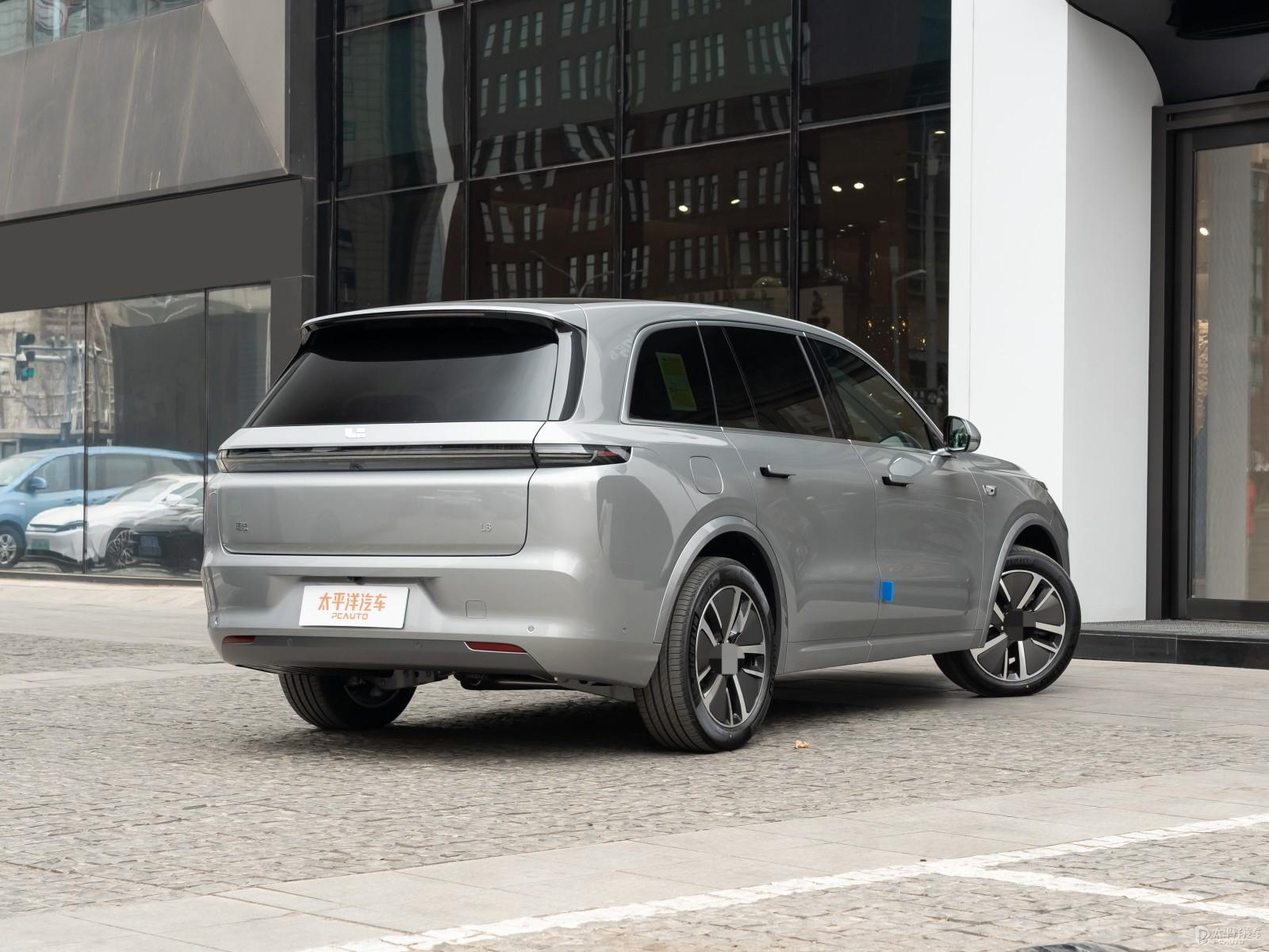Li Auto: (343, 427, 366, 438)
